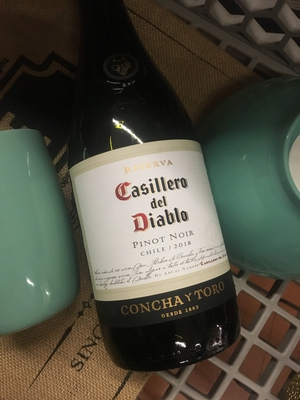casillero del diablo pinot noir: (57, 10, 267, 367)
